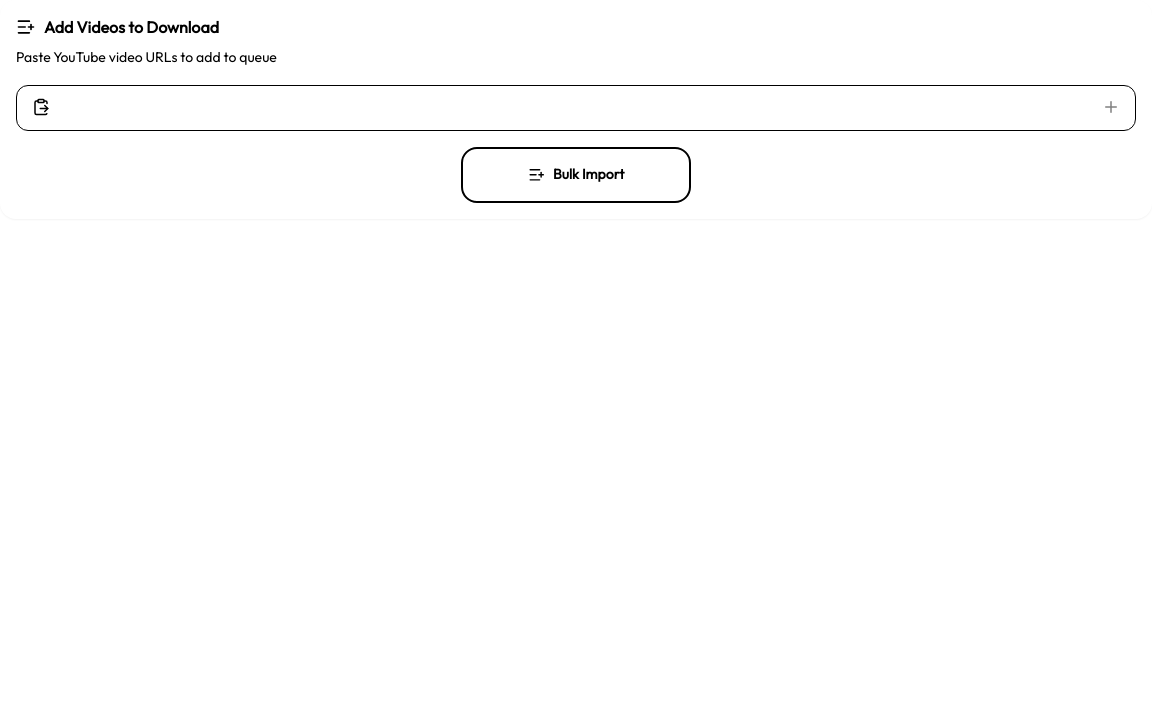
Test: ManualDownload › opens bulk import dialog when button is clicked
Click the button "Bulk Import" at (576, 175), box [461,147,691,203]
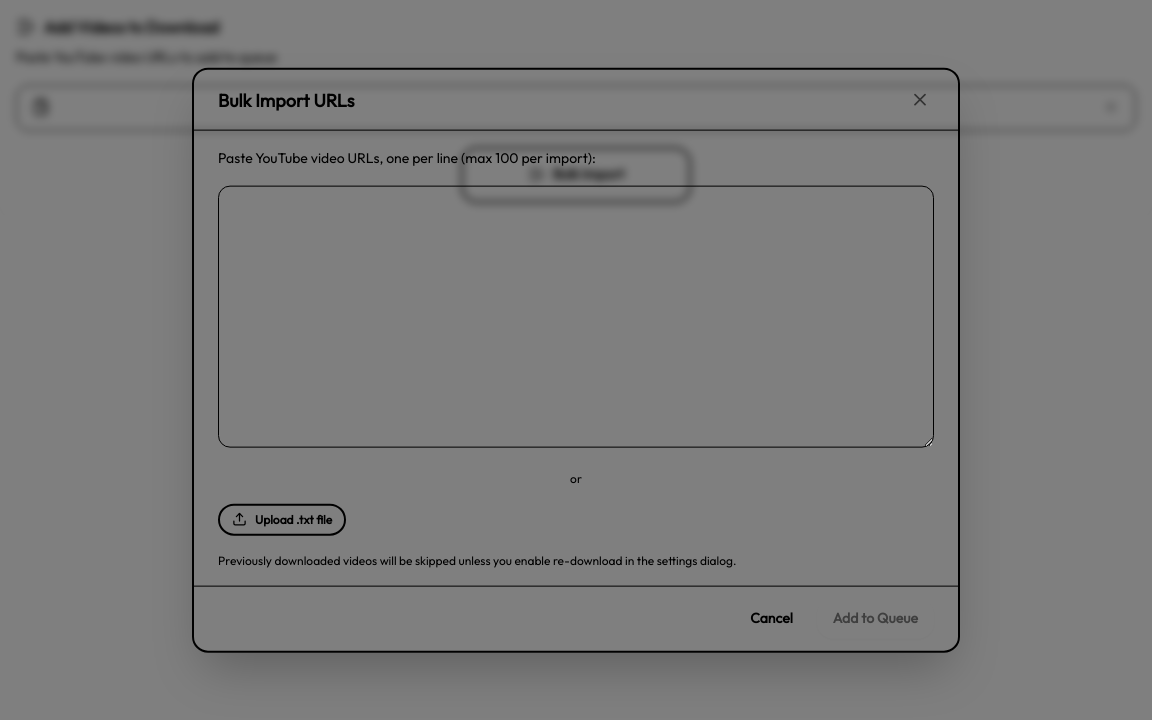
Expected: the dialog with test id "bulk-import-dialog" is shown, [192,68,960,652]
